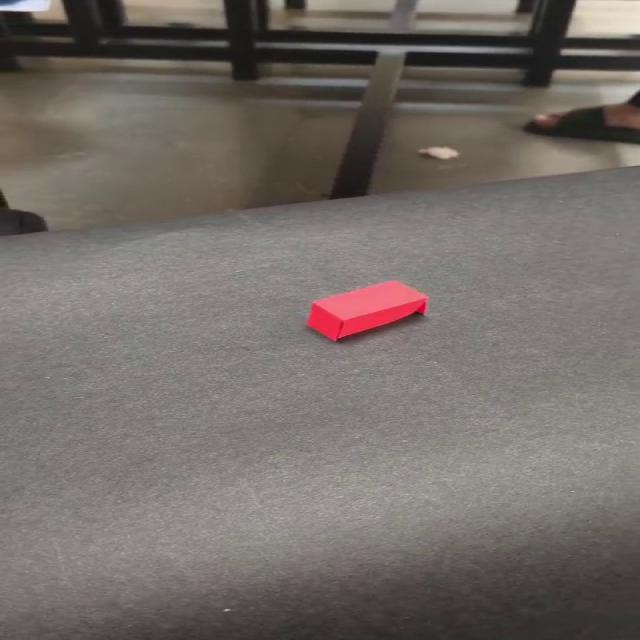red block: (304, 279, 428, 342)
